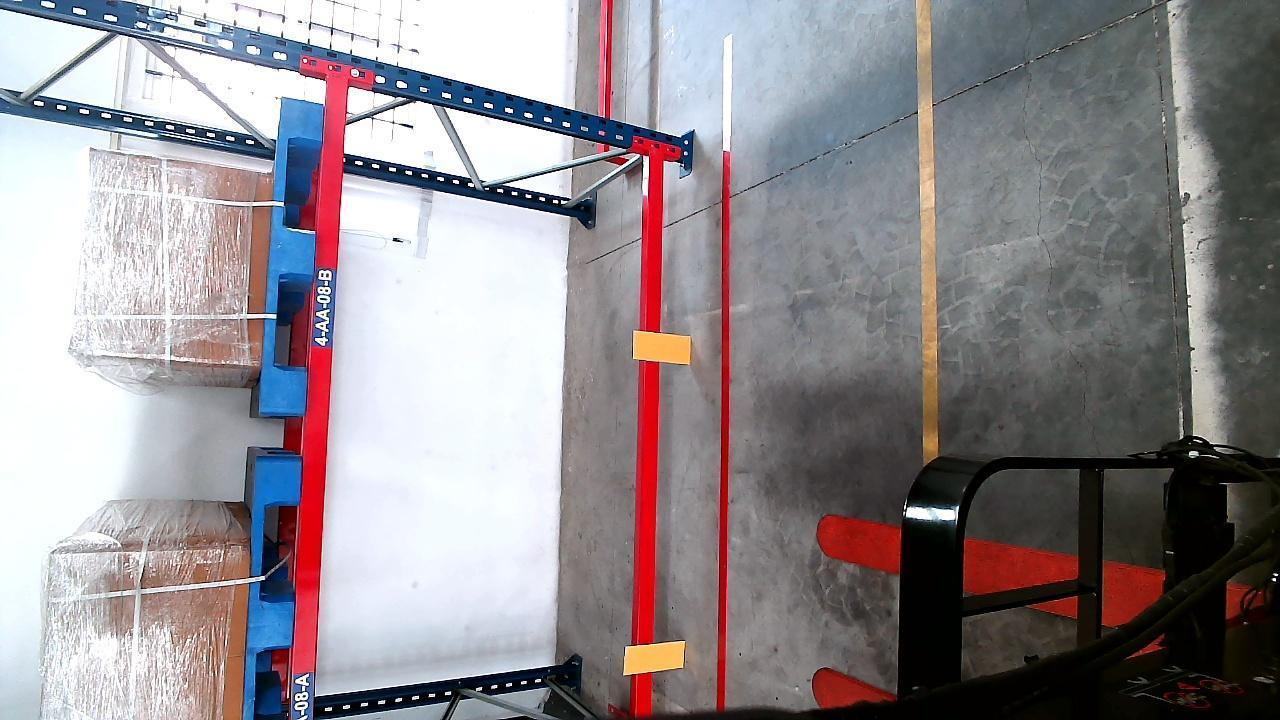h_rack: (292, 77, 348, 720), (635, 156, 666, 711)
orange_strip: (626, 639, 686, 674), (636, 331, 693, 362)
red_line: (715, 33, 732, 708)
small_pallet: (262, 100, 322, 418), (247, 457, 300, 718)
yellow_line: (917, 0, 943, 460)
